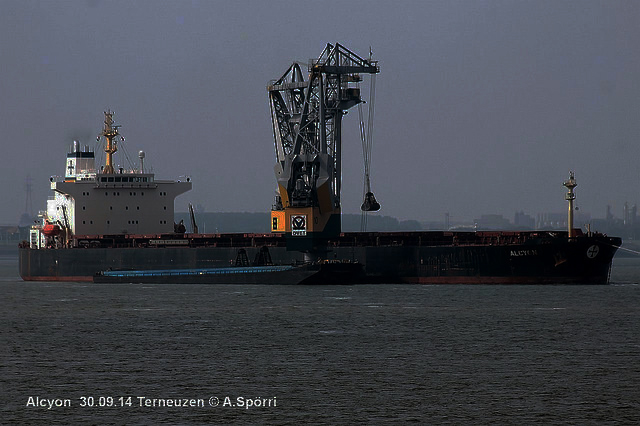bulk carrier: (20, 112, 627, 288)
